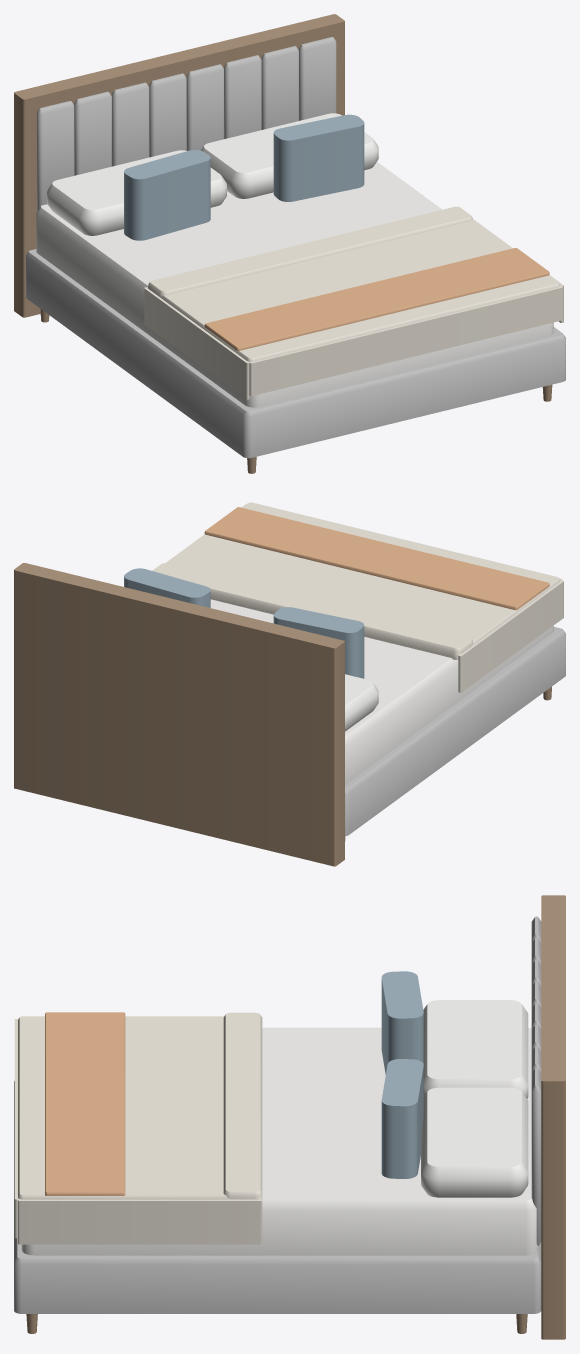
The picture shows the model from 3 angles, top to bottom: view 1: azimuth 30°, elevation 25°; view 2: azimuth 150°, elevation 25°; view 3: azimuth 270°, elevation 25°; orthographic projection. The views are drawn at different scales.
Visible parts, largest first — view 1: Giường ngủ Rộng nệm=1600; view 2: Giường ngủ Rộng nệm=1600; view 3: Giường ngủ Rộng nệm=1600.
Part boxes in pixels (left/top/right/bottom): Giường ngủ Rộng nệm=1600: left=14, top=14, right=565, bottom=473; Giường ngủ Rộng nệm=1600: left=14, top=502, right=565, bottom=866; Giường ngủ Rộng nệm=1600: left=14, top=895, right=565, bottom=1339.
Bounding box in the file's own units: 1.7 × 1.1 × 2.13.
